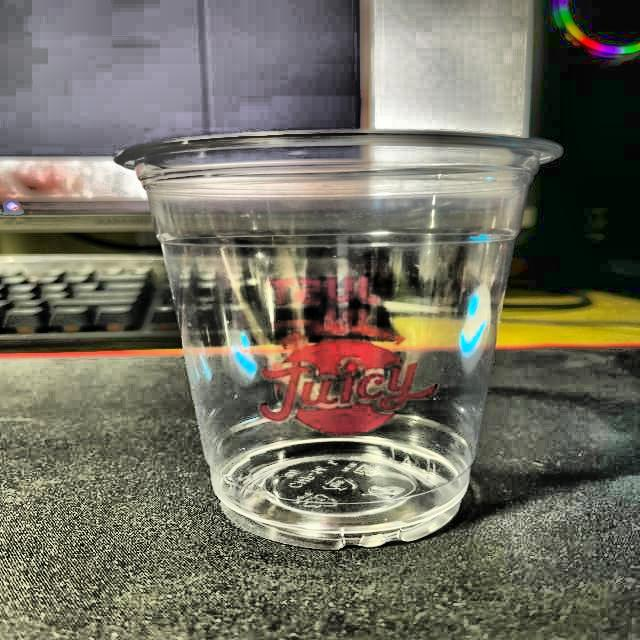plastic cup: (106, 127, 566, 554)
